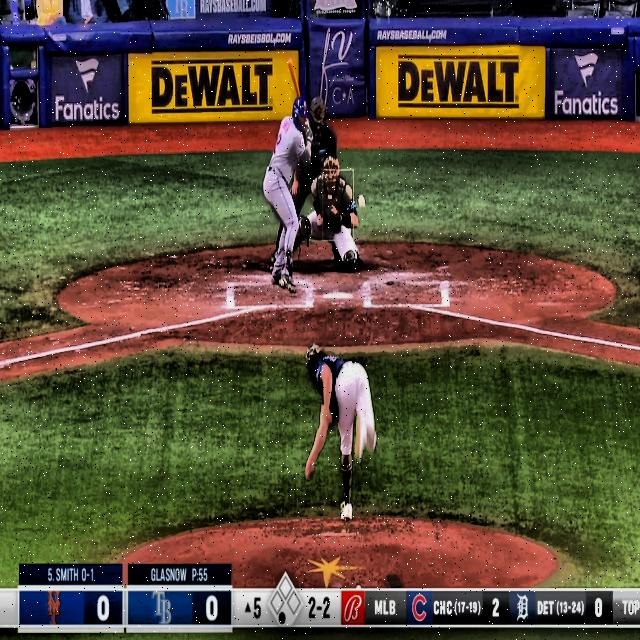baseball: (358, 194, 367, 210)
